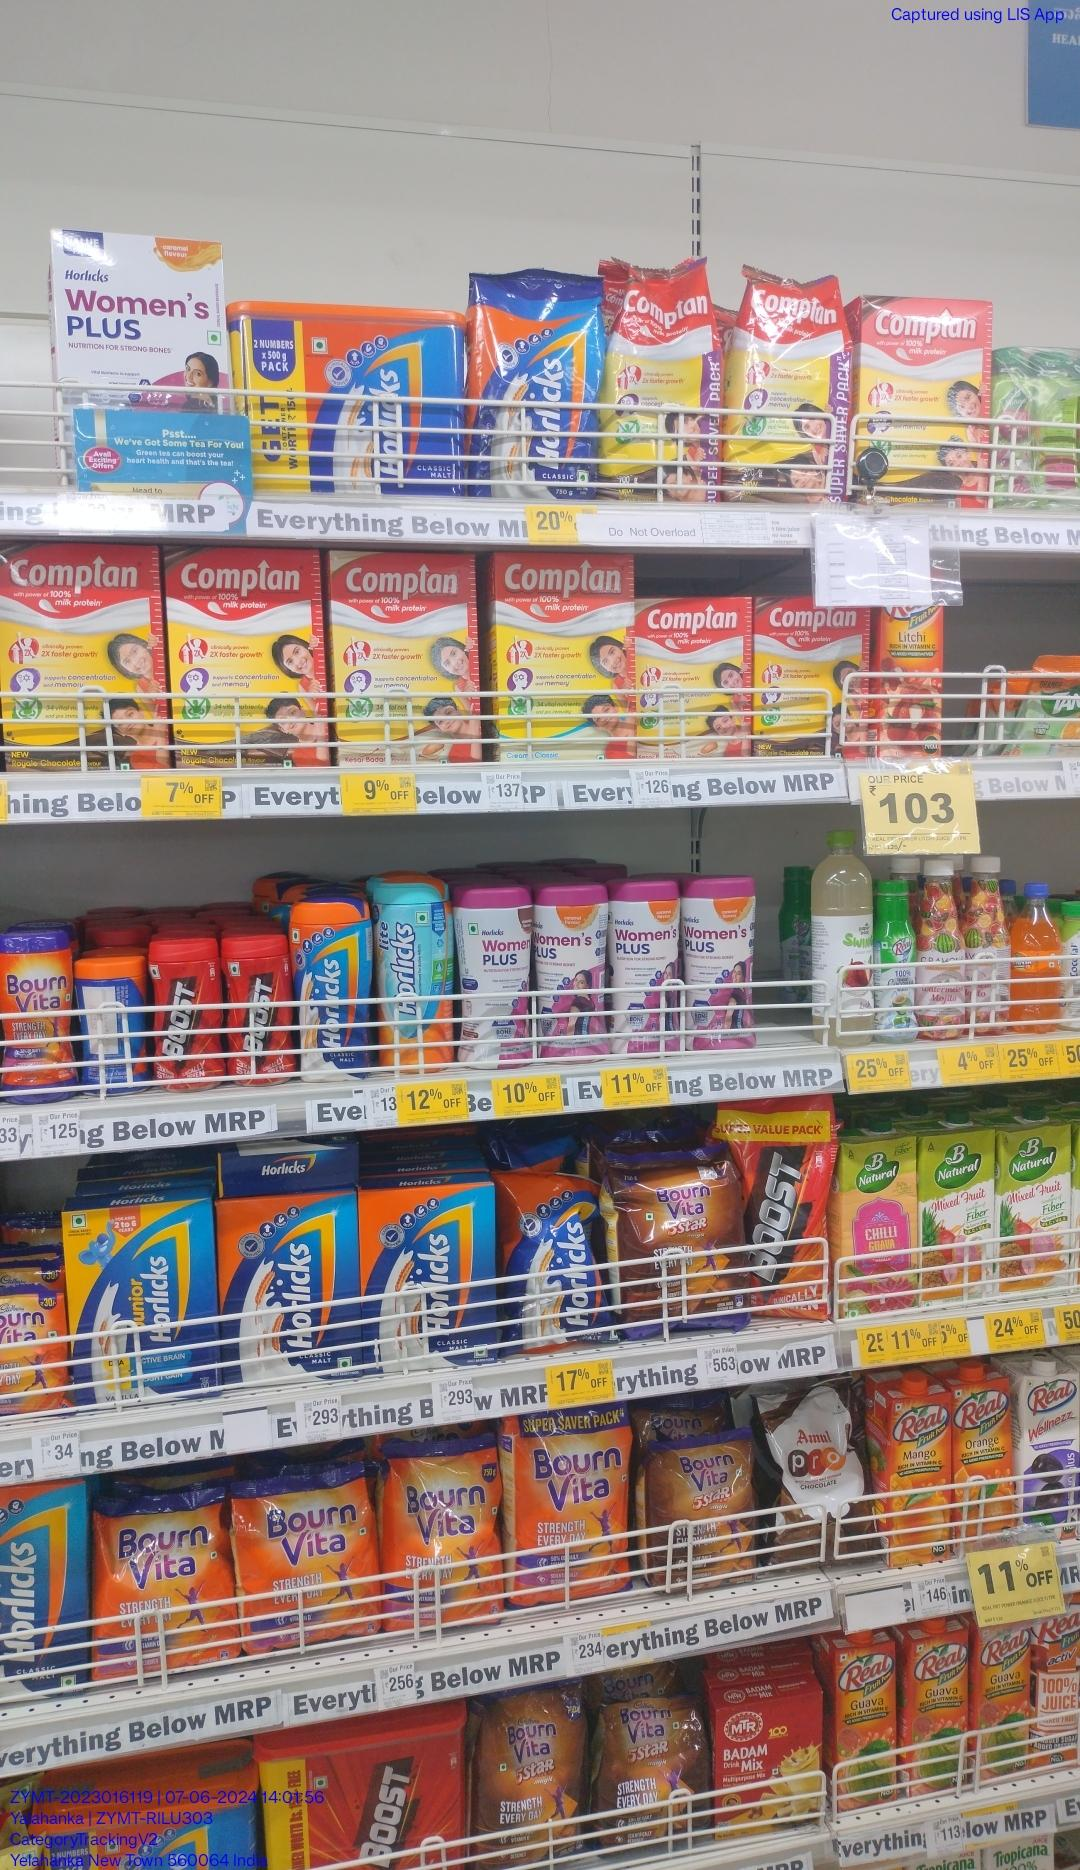BOURN_VITA_FIVE_STAR_MAGIC_500_G_POUCH: (625, 1155, 750, 1331), (589, 1686, 712, 1843), (645, 1438, 769, 1595), (469, 1699, 580, 1860)
HORLICKS_LITE_REGULAR_MALT_500_GM_JAR: (374, 882, 453, 1067)
HORLICK_CLASSIC_MALT_500_G_JAR: (296, 907, 370, 1074)
HORLICK_CLASSIC_MALT_500_G_PACK: (220, 1198, 360, 1370), (365, 1184, 491, 1351)
HORLICK_MALT_1_KG_CONTAINER: (253, 319, 464, 491)
